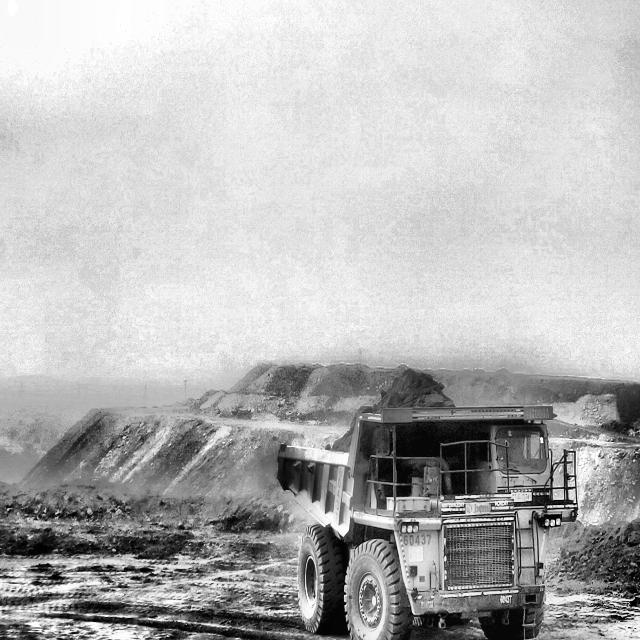dump_truck: (278, 400, 578, 640)
